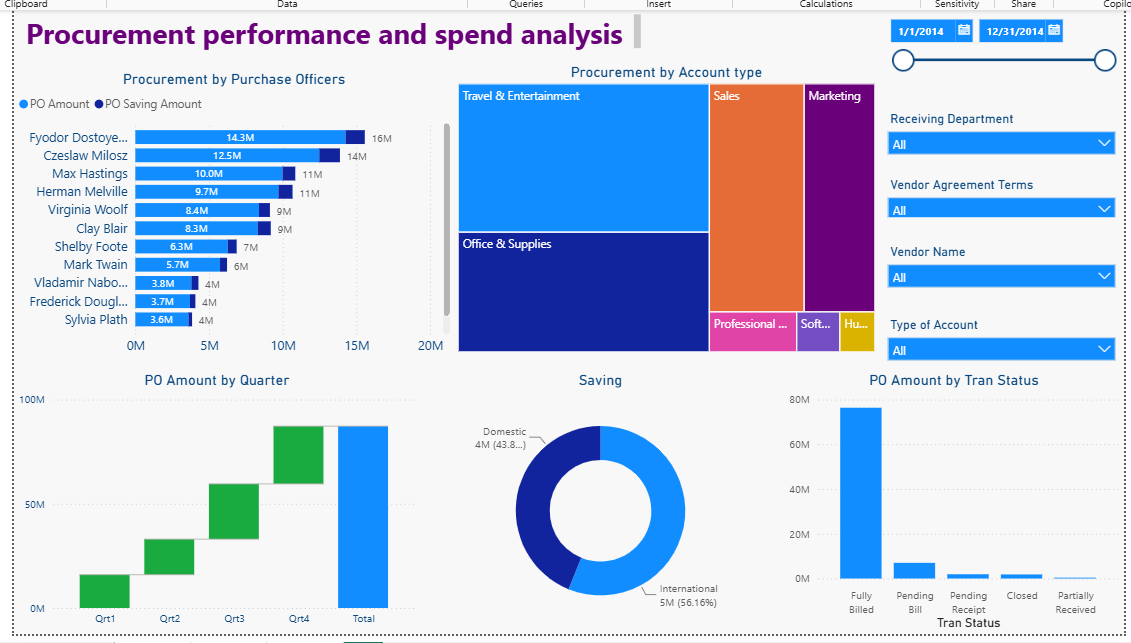

This screenshot's page, from the dashboard's own definition file:
{"tool":"powerbi","page":{"name":"Page 1","canvas":[1280,720],"ordinal":0},"visuals":[{"type":"slicer","fields":{"Values":["Datetable.Date"]},"box":[998,0,282.5,86.6],"z":0},{"type":"textbox","box":[9.2,0,718.8,50.8],"z":1000},{"type":"barChart","title":"Procurement by Purchase Officers","fields":{"Y":["Sum(Procurement Data.PO Amount)","Sum(Procurement Data.PO Saving Amount)"],"Category":["Procurement Data.Purchase Officers"]},"box":[0,69.5,508.1,338.4],"z":2000},{"type":"treemap","title":"Procurement by Account type","fields":{"Group":["Procurement Data.Type of Account"],"Values":["Sum(Procurement Data.PO Amount)"]},"box":[507.7,61.2,490.4,338.1],"z":3000},{"type":"slicer","fields":{"Values":["Procurement Data.Receiving Department"]},"box":[998,111.6,282.5,58.1],"z":4000},{"type":"slicer","fields":{"Values":["Procurement Data.Vendor Agreement Terms"]},"box":[998,188,282.5,51.3],"z":5000},{"type":"slicer","fields":{"Values":["Procurement Data.Type of Account"]},"box":[998,349.7,282.5,58.1],"z":6000},{"type":"slicer","fields":{"Values":["Procurement Data.Vendor Name"]},"box":[998,265.4,282.5,58.1],"z":7000},{"type":"donutChart","title":" Saving ","fields":{"Category":["Procurement Data.Domestic or International"],"Y":["Sum(Procurement Data.PO Saving Amount)"]},"box":[495,416.5,363.5,303.5],"z":8000},{"type":"waterfallChart","title":"PO Amount by Quarter","fields":{"Category":["Datetable.Quarter"],"Y":["Sum(Procurement Data.PO Amount)"]},"box":[0,416.5,468.5,303.5],"z":9000},{"type":"clusteredColumnChart","title":"PO Amount by Tran Status","fields":{"Y":["Sum(Procurement Data.PO Amount)"],"Category":["Procurement Data.Tran Status"]},"box":[889.6,416.5,390,303.5],"z":10000}]}

Visuals, with their boxes on the page's 1280x720 design canvas (x1, y1, x2, y2). These are canvas units, not pixel positions in the 1131x643 screenshot, which may show the page scaled, cropped or inside an application window:
slicer - Datetable.Date: box=[998, 0, 1280, 87]
textbox: box=[9, 0, 728, 51]
"Procurement by Purchase Officers" barChart: box=[0, 70, 508, 408]
"Procurement by Account type" treemap: box=[508, 61, 998, 399]
slicer - Procurement Data.Receiving Department: box=[998, 112, 1280, 170]
slicer - Procurement Data.Vendor Agreement Terms: box=[998, 188, 1280, 239]
slicer - Procurement Data.Type of Account: box=[998, 350, 1280, 408]
slicer - Procurement Data.Vendor Name: box=[998, 265, 1280, 324]
" Saving " donutChart: box=[495, 416, 858, 720]
"PO Amount by Quarter" waterfallChart: box=[0, 416, 468, 720]
"PO Amount by Tran Status" clusteredColumnChart: box=[890, 416, 1280, 720]
